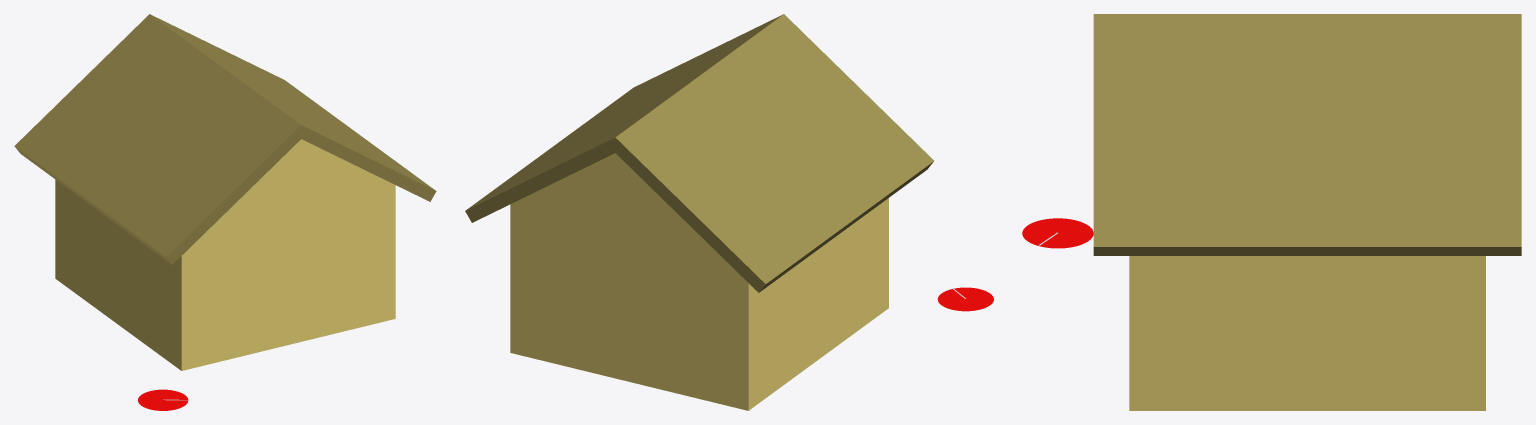
The model's file is result.glb.
3 renders of one model, left to right at view 1: azimuth 30°, elevation 25°; view 2: azimuth 150°, elevation 25°; view 3: azimuth 270°, elevation 25°, orthographic. The views are drawn at different scales.
Parts seen in each view (by area): view 1: 26bb1db7-cb0a-4aeb-9e20-653d251f7fe4__undefined, fc5a421d-ca5e-4ceb-a31c-05ffbf86873d__undefined (×2), 61c2cabc-ebab-4597-a6ef-427719730f27__Circle; view 2: 26bb1db7-cb0a-4aeb-9e20-653d251f7fe4__undefined, fc5a421d-ca5e-4ceb-a31c-05ffbf86873d__undefined (×2), 61c2cabc-ebab-4597-a6ef-427719730f27__Circle; view 3: fc5a421d-ca5e-4ceb-a31c-05ffbf86873d__undefined, 26bb1db7-cb0a-4aeb-9e20-653d251f7fe4__undefined, 61c2cabc-ebab-4597-a6ef-427719730f27__Circle.
Boxes of the visible parts, box(x1,y1,x2,y2) form: 26bb1db7-cb0a-4aeb-9e20-653d251f7fe4__undefined: box(55, 139, 395, 370); fc5a421d-ca5e-4ceb-a31c-05ffbf86873d__undefined (×2): box(14, 14, 436, 264); 61c2cabc-ebab-4597-a6ef-427719730f27__Circle: box(138, 389, 188, 410); 26bb1db7-cb0a-4aeb-9e20-653d251f7fe4__undefined: box(510, 153, 888, 410); fc5a421d-ca5e-4ceb-a31c-05ffbf86873d__undefined (×2): box(465, 14, 933, 292); 61c2cabc-ebab-4597-a6ef-427719730f27__Circle: box(937, 287, 993, 311); fc5a421d-ca5e-4ceb-a31c-05ffbf86873d__undefined: box(1093, 14, 1521, 255); 26bb1db7-cb0a-4aeb-9e20-653d251f7fe4__undefined: box(1129, 256, 1485, 410); 61c2cabc-ebab-4597-a6ef-427719730f27__Circle: box(1022, 218, 1093, 248).
Bounding box in the file's own units: 703 × 500 × 700.
